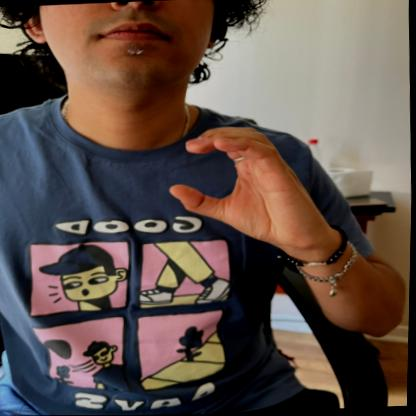C: (163, 120, 325, 258)
